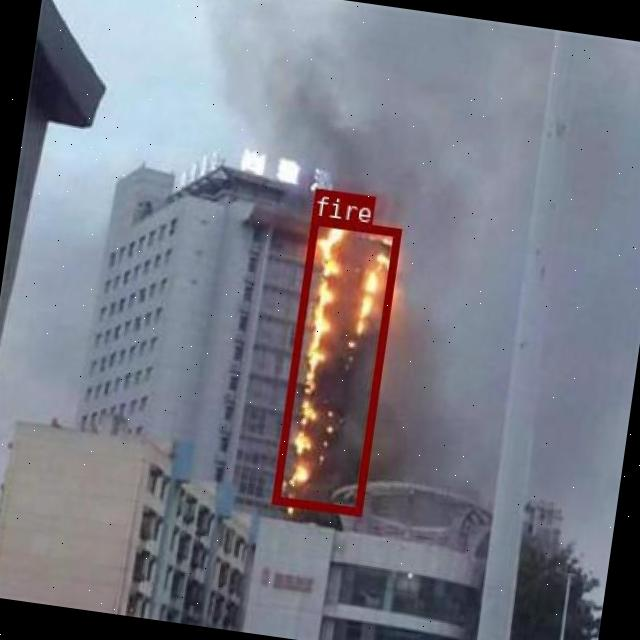fire: (272, 216, 399, 514)
